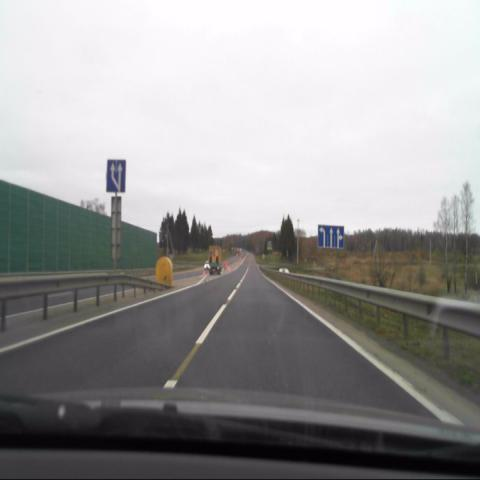5_15_1: (318, 223, 344, 248)
